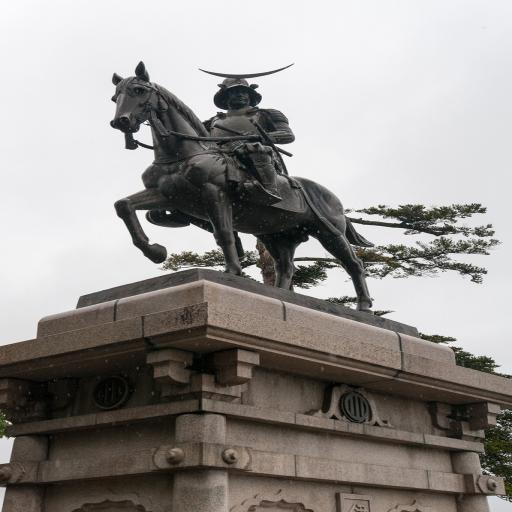horse: (111, 56, 371, 312)
